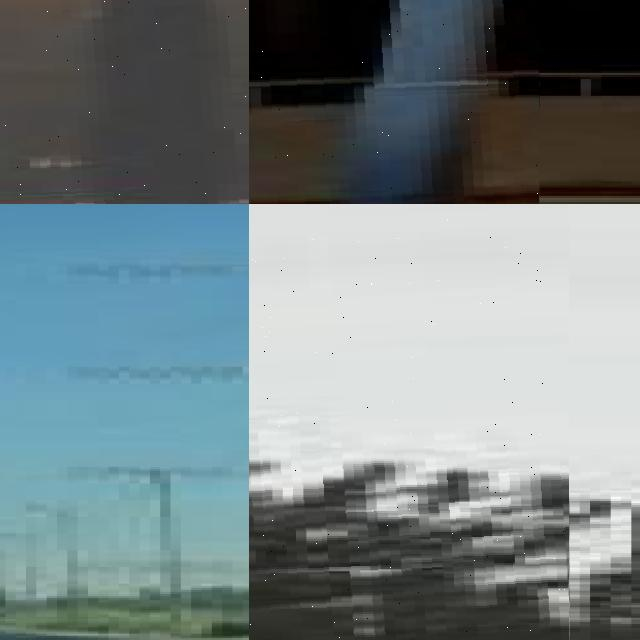street light: (249, 204, 569, 640), (249, 0, 539, 204), (0, 0, 249, 204)
